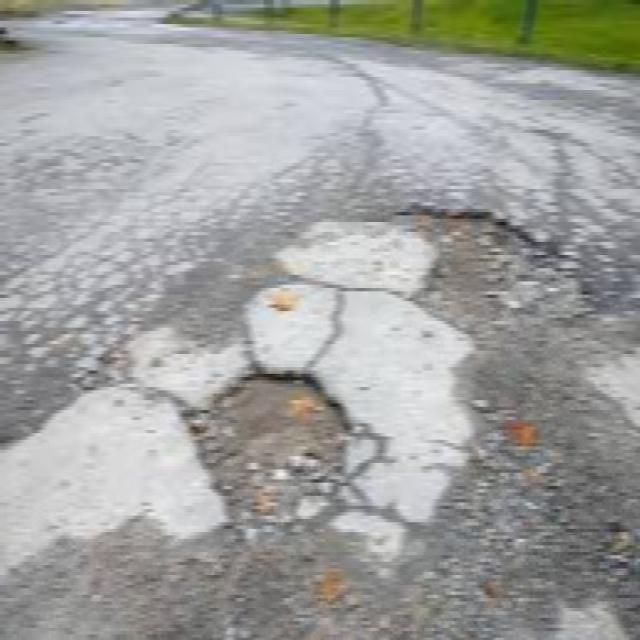Pothole: (186, 349, 368, 494), (399, 200, 552, 321)
